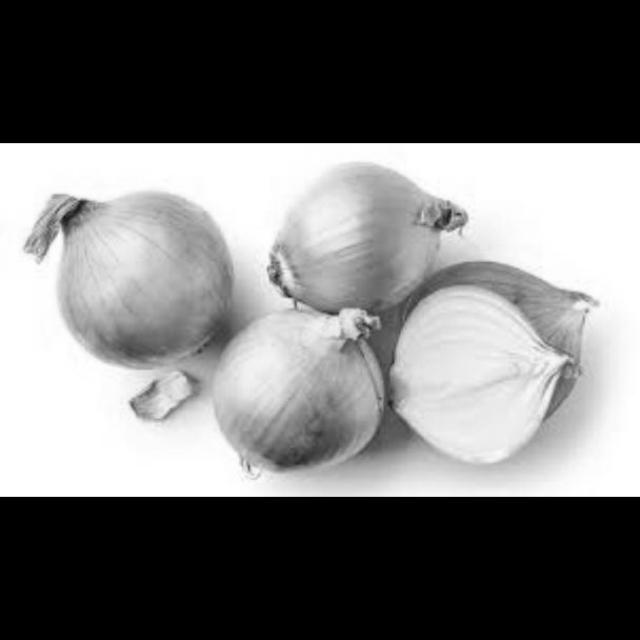onion: (31, 175, 230, 358), (398, 276, 579, 476), (405, 255, 601, 419), (206, 310, 398, 473), (265, 150, 449, 317)
